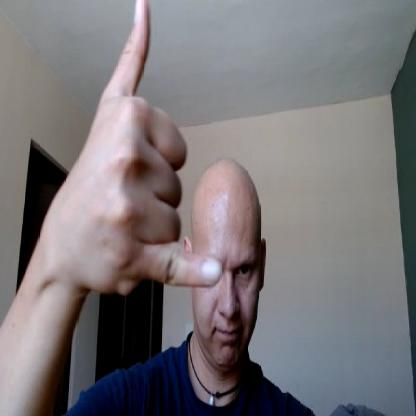Y: (74, 0, 221, 296)
